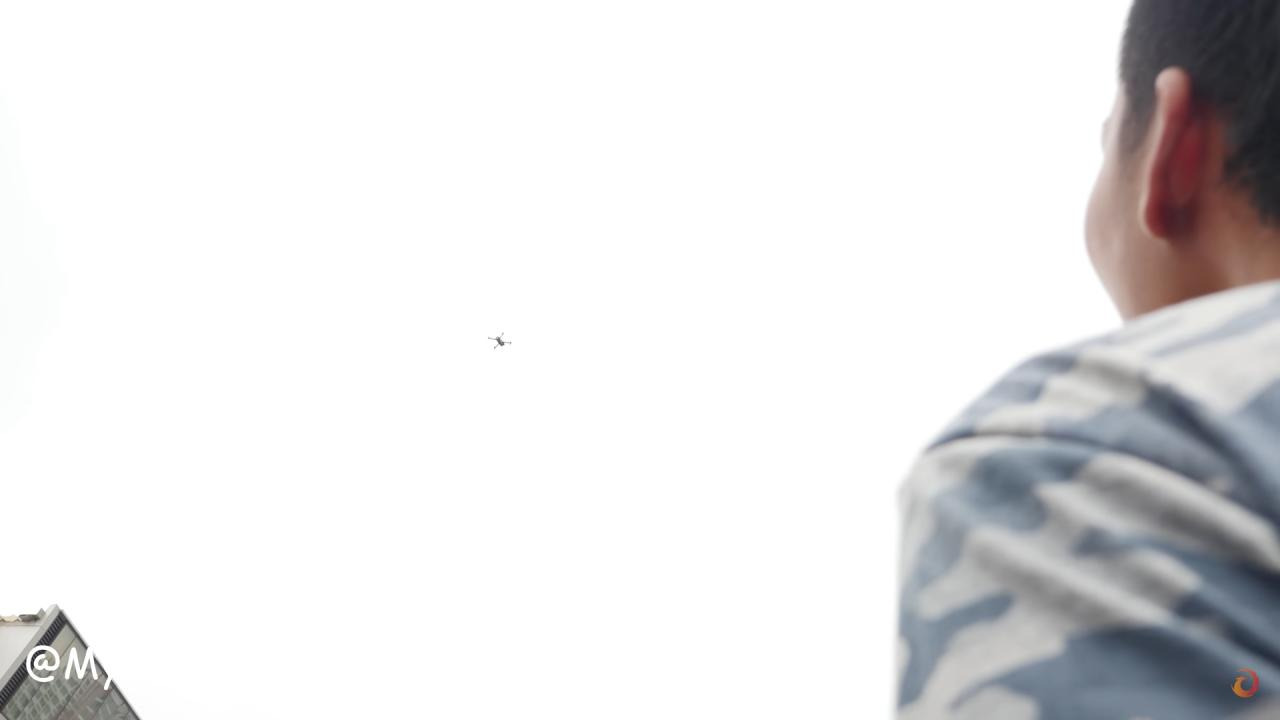Drone: (479, 323, 519, 358)
